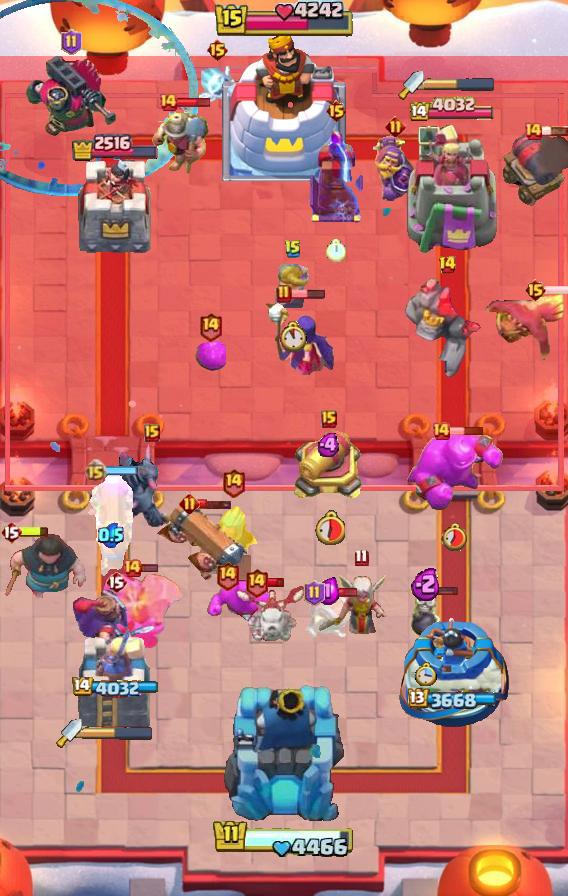archer-queen: (98, 571, 186, 651)
axe: (261, 298, 337, 378)
bandit: (151, 107, 213, 177)
bar: (406, 122, 500, 256), (75, 623, 153, 731)
bat: (199, 63, 235, 103)
battle-healer: (153, 502, 251, 584), (88, 475, 134, 579)
cannoneer-tower: (403, 273, 491, 379)
clock: (212, 818, 356, 860), (213, 0, 355, 40)
clone: (405, 428, 505, 512)
electro-spirit: (411, 567, 441, 602), (316, 575, 340, 604), (98, 522, 124, 548), (318, 433, 343, 457)
elixir: (315, 511, 345, 546), (278, 321, 308, 353), (441, 521, 469, 550), (415, 662, 437, 686), (326, 238, 346, 262)
elixir-golem-big: (72, 588, 160, 654)
emote: (14, 525, 50, 539), (290, 288, 326, 300), (197, 498, 233, 510), (424, 584, 460, 596), (176, 96, 211, 107), (105, 465, 140, 476), (323, 586, 358, 597), (449, 426, 484, 436), (540, 125, 568, 137), (544, 284, 568, 296), (266, 577, 285, 588), (141, 563, 160, 573)
firecracker-evolution: (373, 135, 417, 203)
goblin-giant: (275, 262, 311, 309)
golemite: (104, 443, 200, 535)
ice-golem: (409, 586, 443, 642)
ice-spirit-evolution-symbol: (306, 128, 366, 224)
inferno-tower: (23, 53, 119, 139)
king-tower: (222, 31, 346, 181), (221, 682, 347, 826)
king-tower-bar: (424, 77, 496, 91), (82, 726, 154, 740)
knight: (301, 592, 355, 644)
miner: (194, 341, 226, 371)
mini-pekka: (231, 579, 309, 647)
mortar: (203, 503, 263, 575)
mother-witch: (482, 286, 568, 370)
pad_0: (0, 0, 198, 196)
poison: (317, 567, 405, 645)
queen-tower: (395, 614, 514, 730), (73, 160, 154, 257)
royal-giant-evolution: (500, 132, 568, 206)
royal-hog: (0, 534, 90, 604)
royal-recruit: (293, 429, 365, 503)
selected: (69, 132, 158, 162), (411, 96, 498, 124), (409, 688, 500, 712), (70, 677, 158, 699)
text: (197, 310, 222, 341), (222, 466, 247, 497), (215, 560, 240, 591), (243, 567, 268, 598), (207, 38, 230, 62), (324, 99, 347, 123), (525, 278, 548, 302), (62, 29, 83, 55), (304, 580, 325, 606), (84, 459, 107, 482), (0, 520, 22, 544), (105, 570, 127, 594), (179, 493, 201, 515), (385, 115, 406, 137), (158, 92, 178, 112), (523, 121, 543, 141), (431, 421, 451, 441), (122, 558, 142, 578), (438, 255, 457, 275), (284, 239, 302, 259), (276, 284, 292, 304), (321, 410, 337, 428), (144, 424, 160, 442), (355, 549, 369, 567)
tornado: (206, 572, 276, 630)
